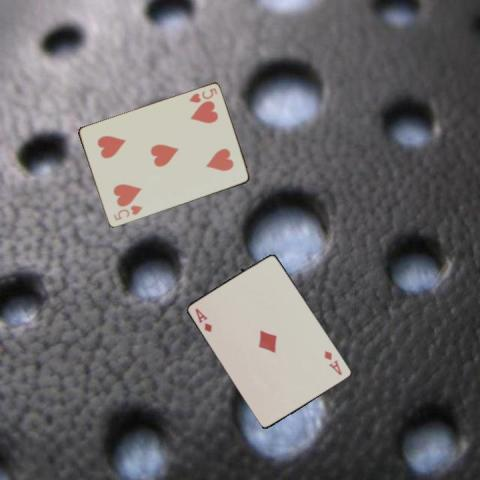5h: (186, 85, 219, 105), (111, 203, 143, 222)
Ad: (322, 348, 344, 377), (192, 305, 213, 334)
